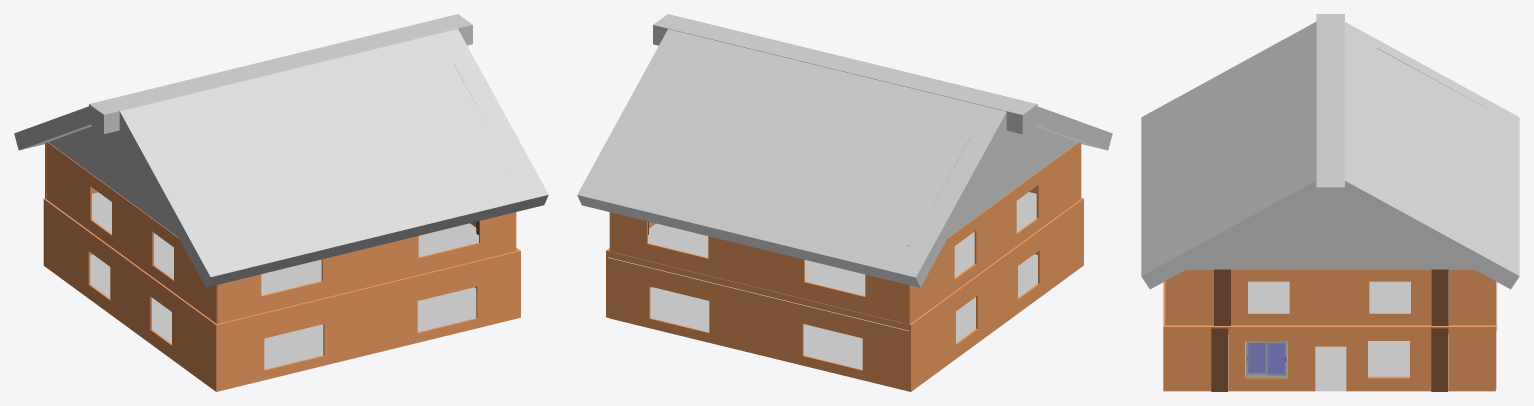
File: House.fbx
3 renders of one model, left to right at view 1: azimuth 30°, elevation 25°; view 2: azimuth 150°, elevation 25°; view 3: azimuth 270°, elevation 25°, orthographic. The views are drawn at different scales.
Visible parts, largest first — view 1: Roof.003, Wall.003, Wall.008, Wall.007, Wall.005, Roof.002, MainFloor, Cube.001, Floor, Roof.001; view 2: Roof.001, Wall.002, Wall.008, Wall.006, Wall.005, Roof.002, MainFloor, Cube.001, Floor, Roof.003; view 3: Roof.003, Roof.001, Wall.001, Wall.004, Cube.002, Roof.002, MainFloor, Floor, BigStrip.003, BigStrip.004, BigStrip.001, BigStrip.002 (+2 smaller).
Part boxes in pixels (box(x1,y1,x2,y2)): Roof.003: box(119, 28, 548, 287); Wall.003: box(217, 251, 517, 391); Wall.008: box(43, 198, 217, 391); Wall.007: box(217, 212, 516, 323); Wall.005: box(46, 142, 216, 323); Roof.002: box(89, 14, 472, 133); MainFloor: box(44, 254, 476, 390); Cube.001: box(48, 126, 178, 237); Floor: box(92, 192, 478, 295); Roof.001: box(14, 18, 442, 150); Roof.001: box(577, 28, 1006, 287); Wall.002: box(609, 251, 909, 391); Wall.008: box(909, 198, 1083, 391); Wall.006: box(610, 212, 910, 324); Wall.005: box(910, 142, 1080, 323); Roof.002: box(653, 14, 1037, 134); MainFloor: box(650, 254, 1082, 390); Cube.001: box(907, 126, 1078, 246); Floor: box(608, 192, 1036, 330); Roof.003: box(685, 18, 1112, 150); Roof.003: box(1141, 21, 1316, 289); Roof.001: box(1344, 21, 1519, 289); Wall.001: box(1163, 325, 1495, 391); Wall.004: box(1166, 269, 1495, 325); Cube.002: box(1187, 188, 1473, 270); Roof.002: box(1316, 14, 1344, 205); MainFloor: box(1228, 334, 1495, 391); Floor: box(1248, 271, 1497, 331); BigStrip.003: box(1431, 327, 1447, 391); BigStrip.004: box(1211, 327, 1227, 391); BigStrip.001: box(1431, 269, 1448, 333); BigStrip.002: box(1214, 269, 1230, 333).
Bounding box in the file's own units: 5338 × 3141 × 4925.
